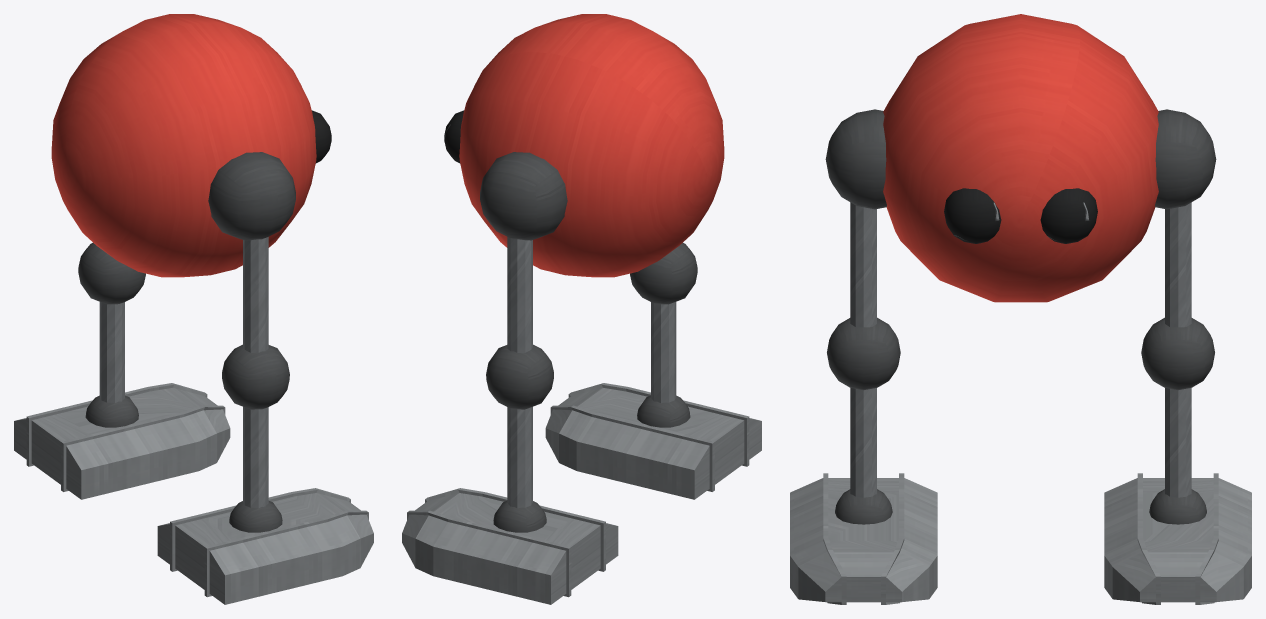
Rendered from player.glb.
The picture shows the model from 3 angles, left to right: view 1: azimuth 30°, elevation 25°; view 2: azimuth 150°, elevation 25°; view 3: azimuth 270°, elevation 25°; orthographic projection. The views are drawn at different scales.
Size of the model in its own units: 2.69 by 5.25 by 4.11.
Materials: 1 (1 with a texture image).
